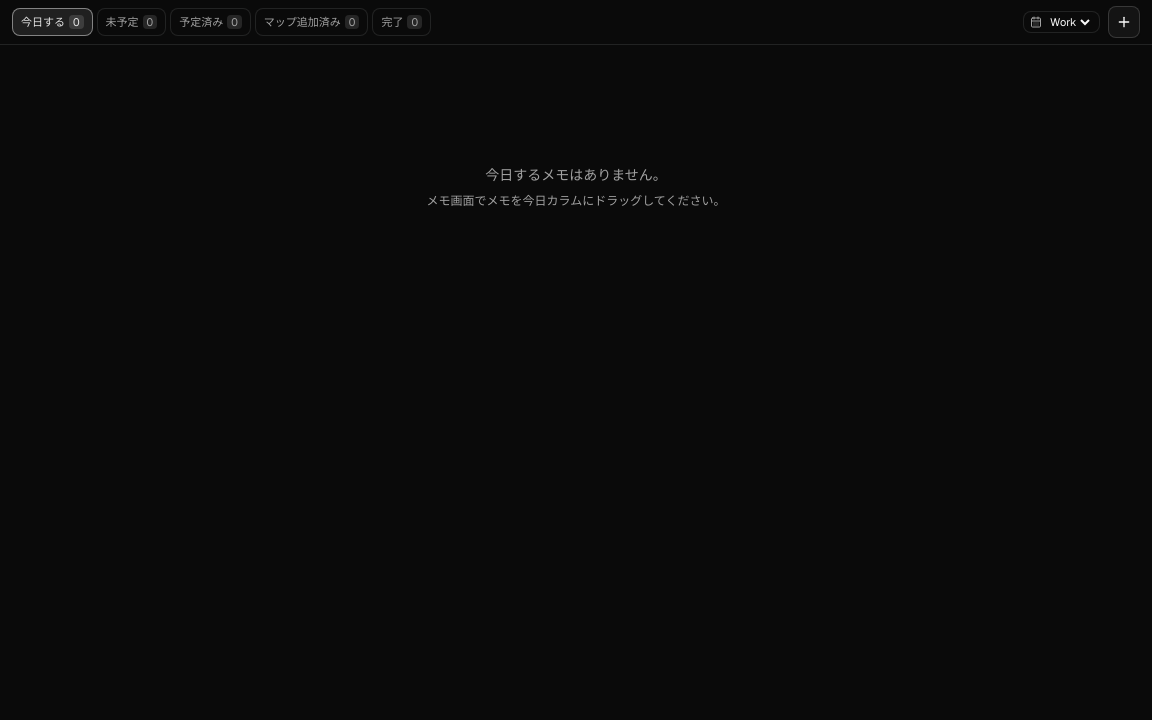
Test: TodayMemoBoard project filtering › 追加ボタンから今日するメモを作成できる
The image size is (1152, 720).
Expected: the text "今日するメモはありません。" is shown, [485,165,667,185]
Click the button named "今日するメモを追加".
click(1124, 22)  # box [1108,6,1140,38]
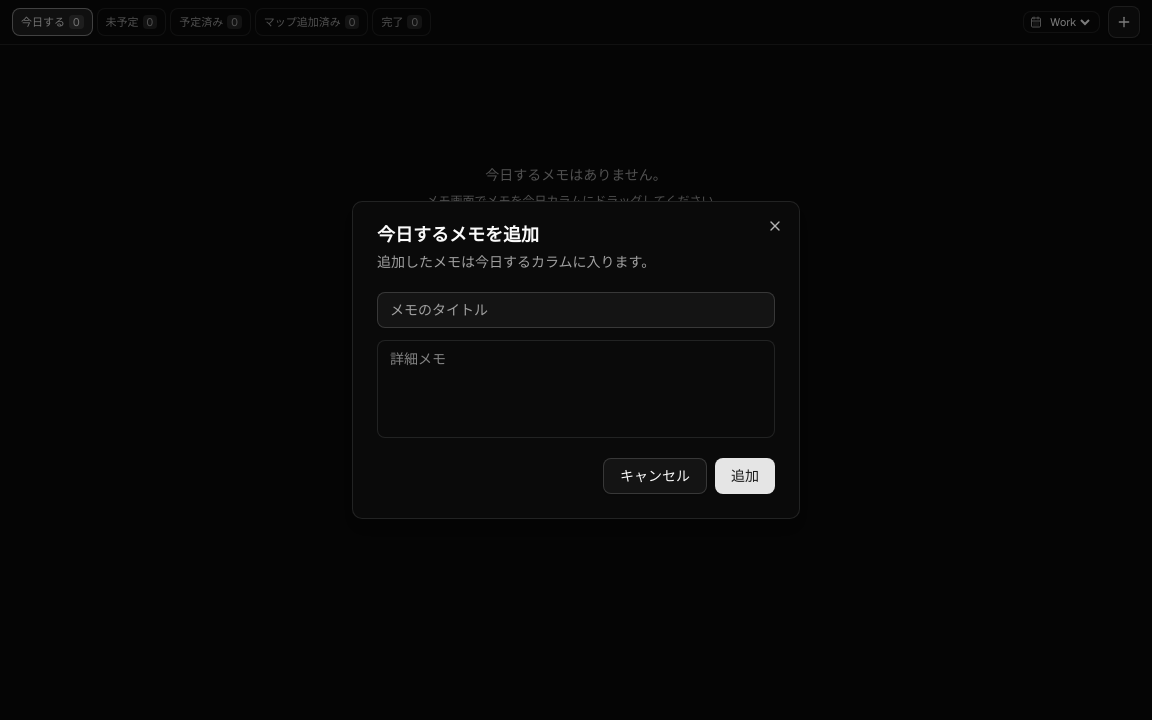
Type "新しい今日メモ" into the field with placeholder "メモのタイトル".
click(576, 310); type("新しい今日メモ")  # box [377,292,775,328]
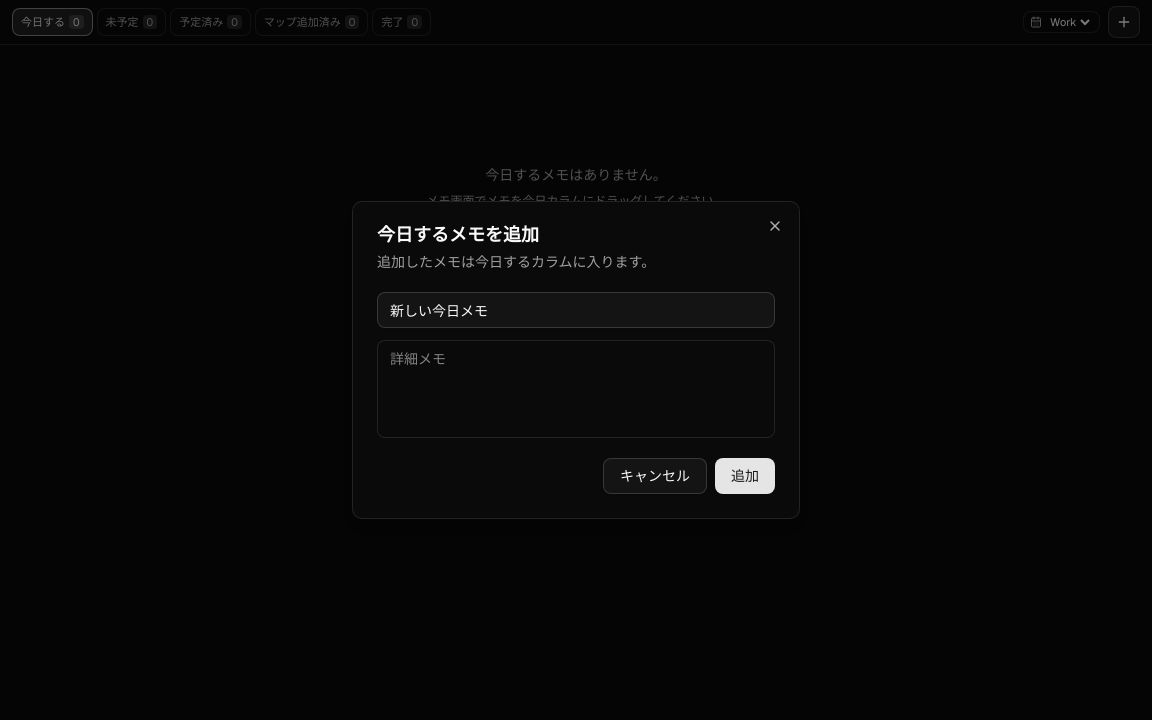
Type "今日やる内容" into the text box with placeholder "詳細メモ".
click(576, 389); type("今日やる内容")  # box [377,340,775,438]
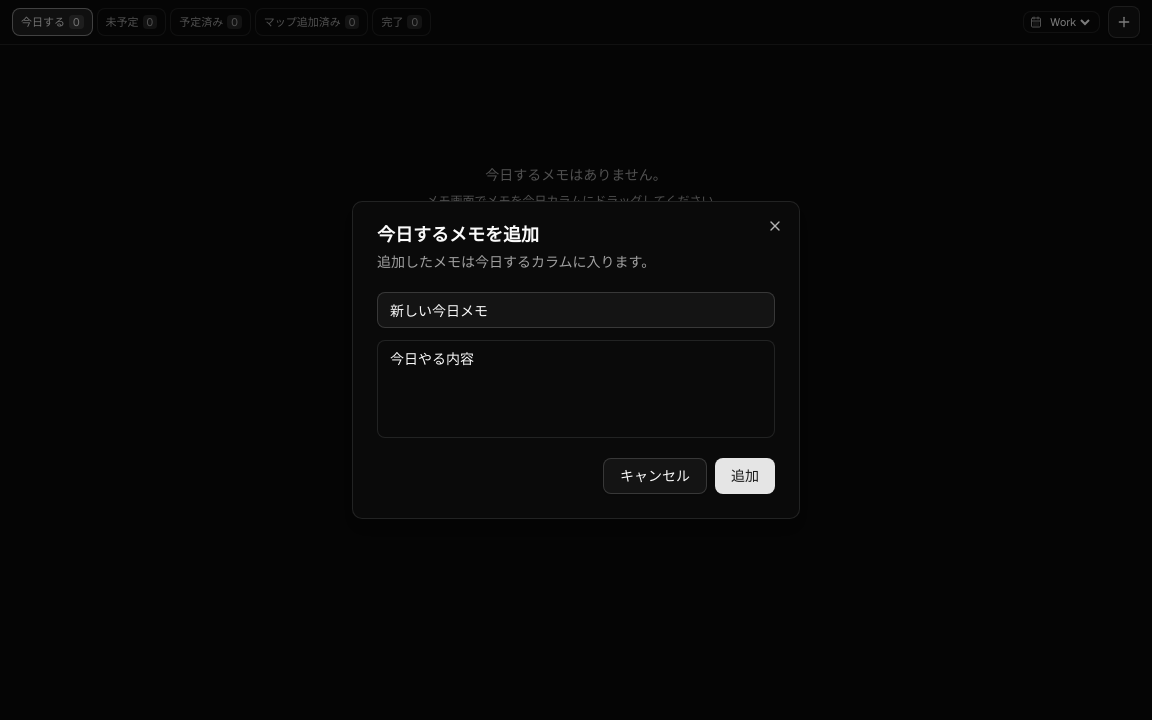
Click the button "追加".
click(745, 476)  # box [715,458,775,494]
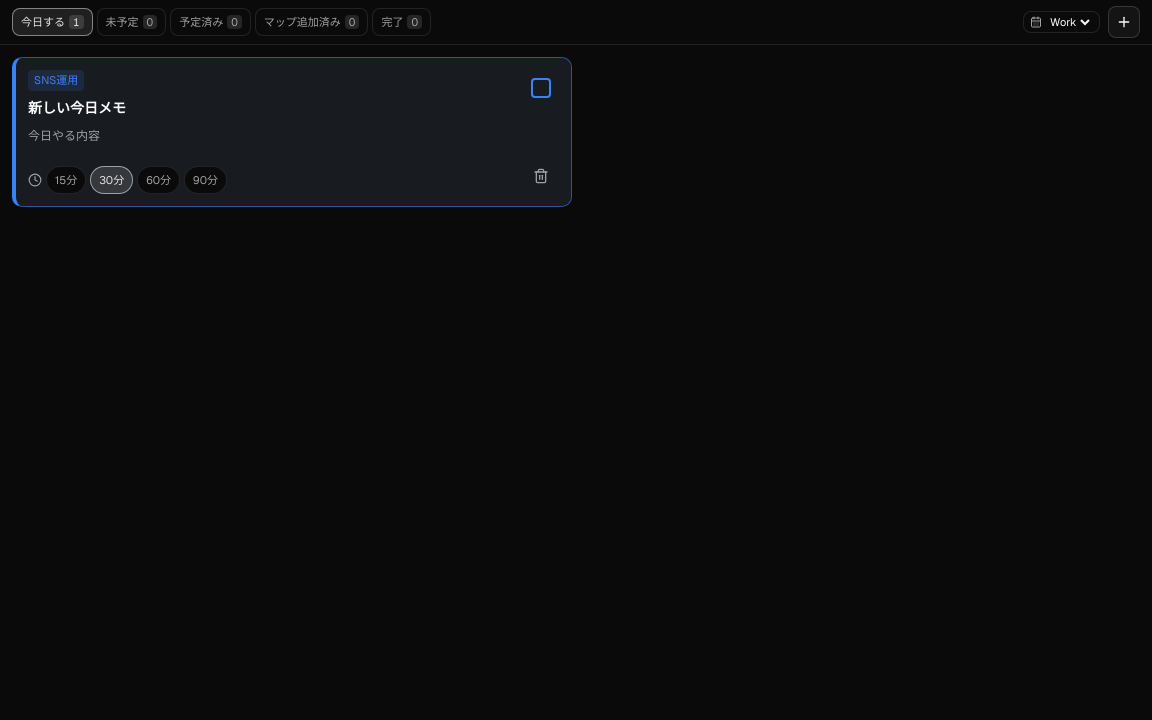
Expected: the text "新しい今日メモ" is shown, [28,98,126,116]
